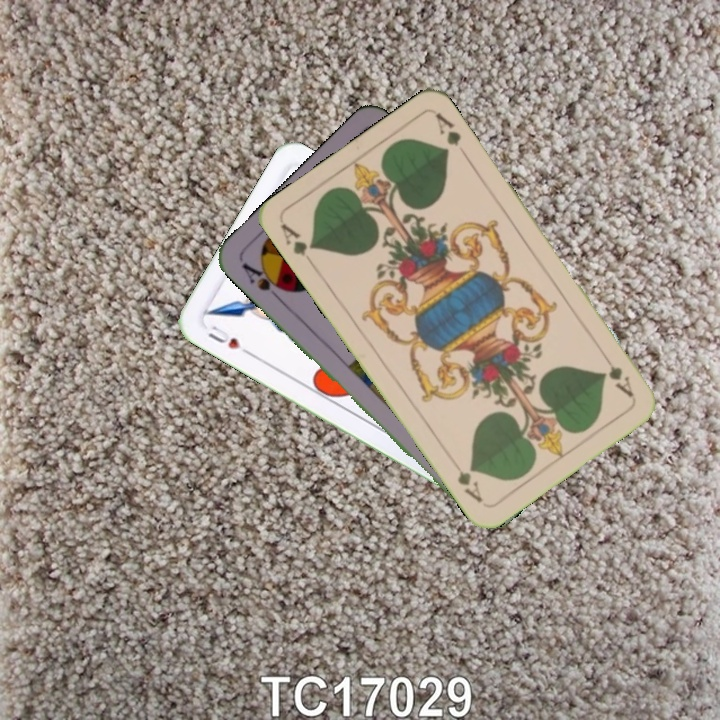GA: (276, 219, 318, 271), (597, 348, 636, 400)
HU: (204, 321, 253, 358)
SA: (238, 258, 290, 304)
